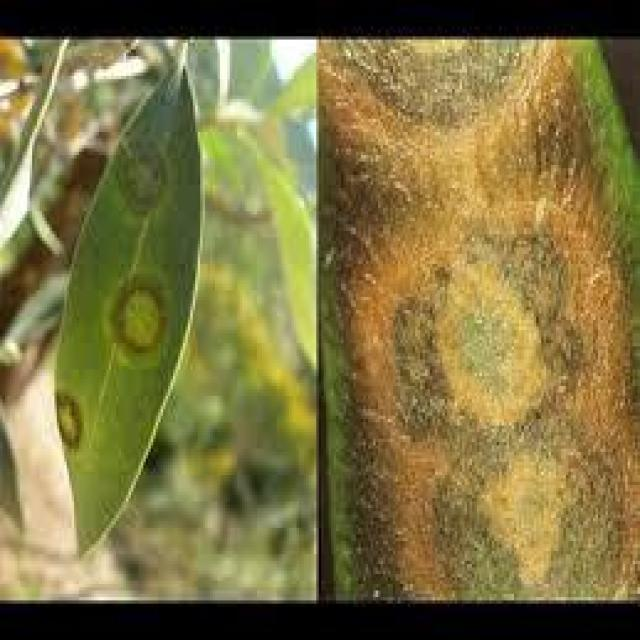OlivePeacockSpot: (322, 43, 638, 597), (57, 66, 200, 561)
